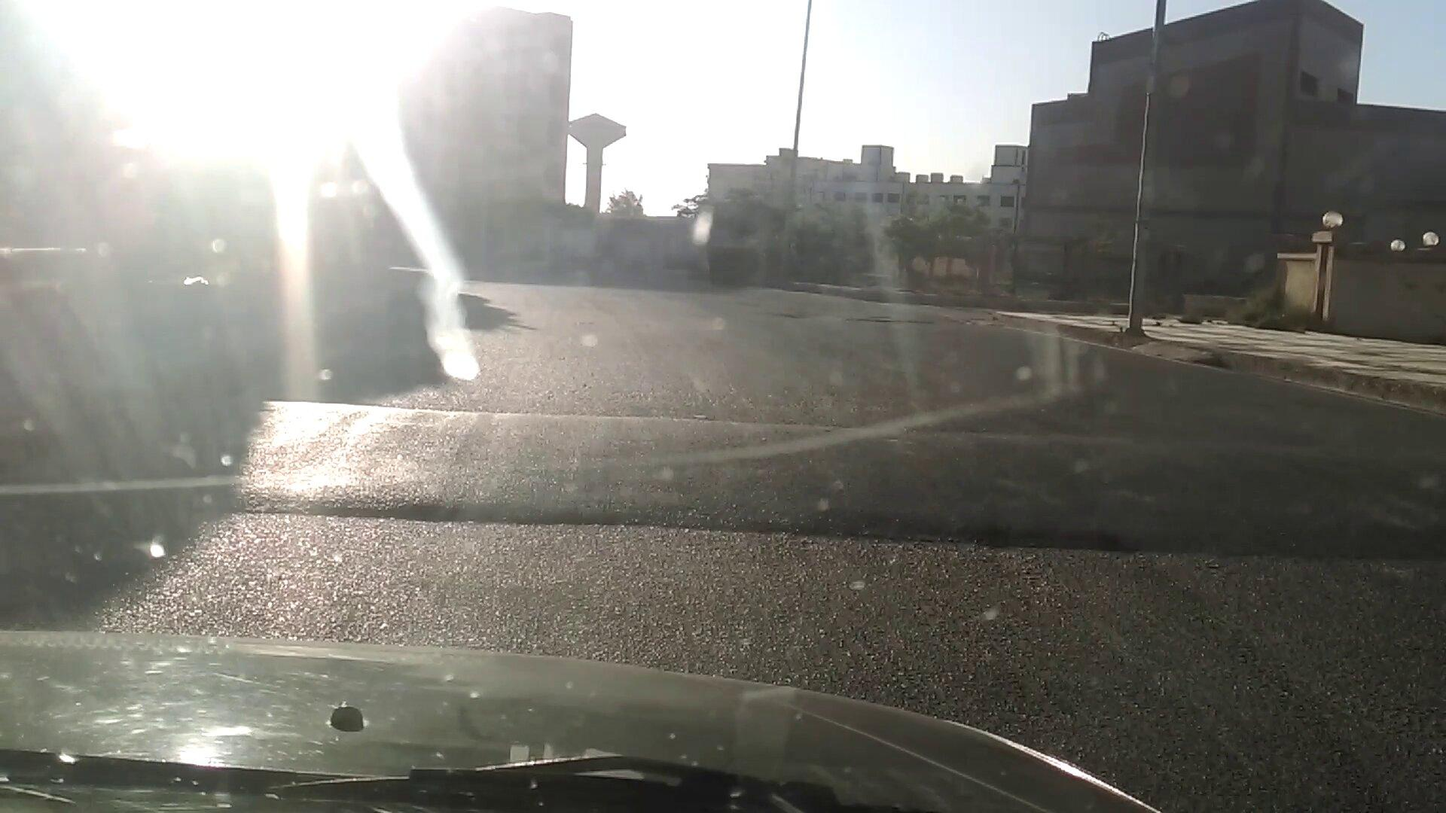Bump: (241, 395, 1416, 555)
